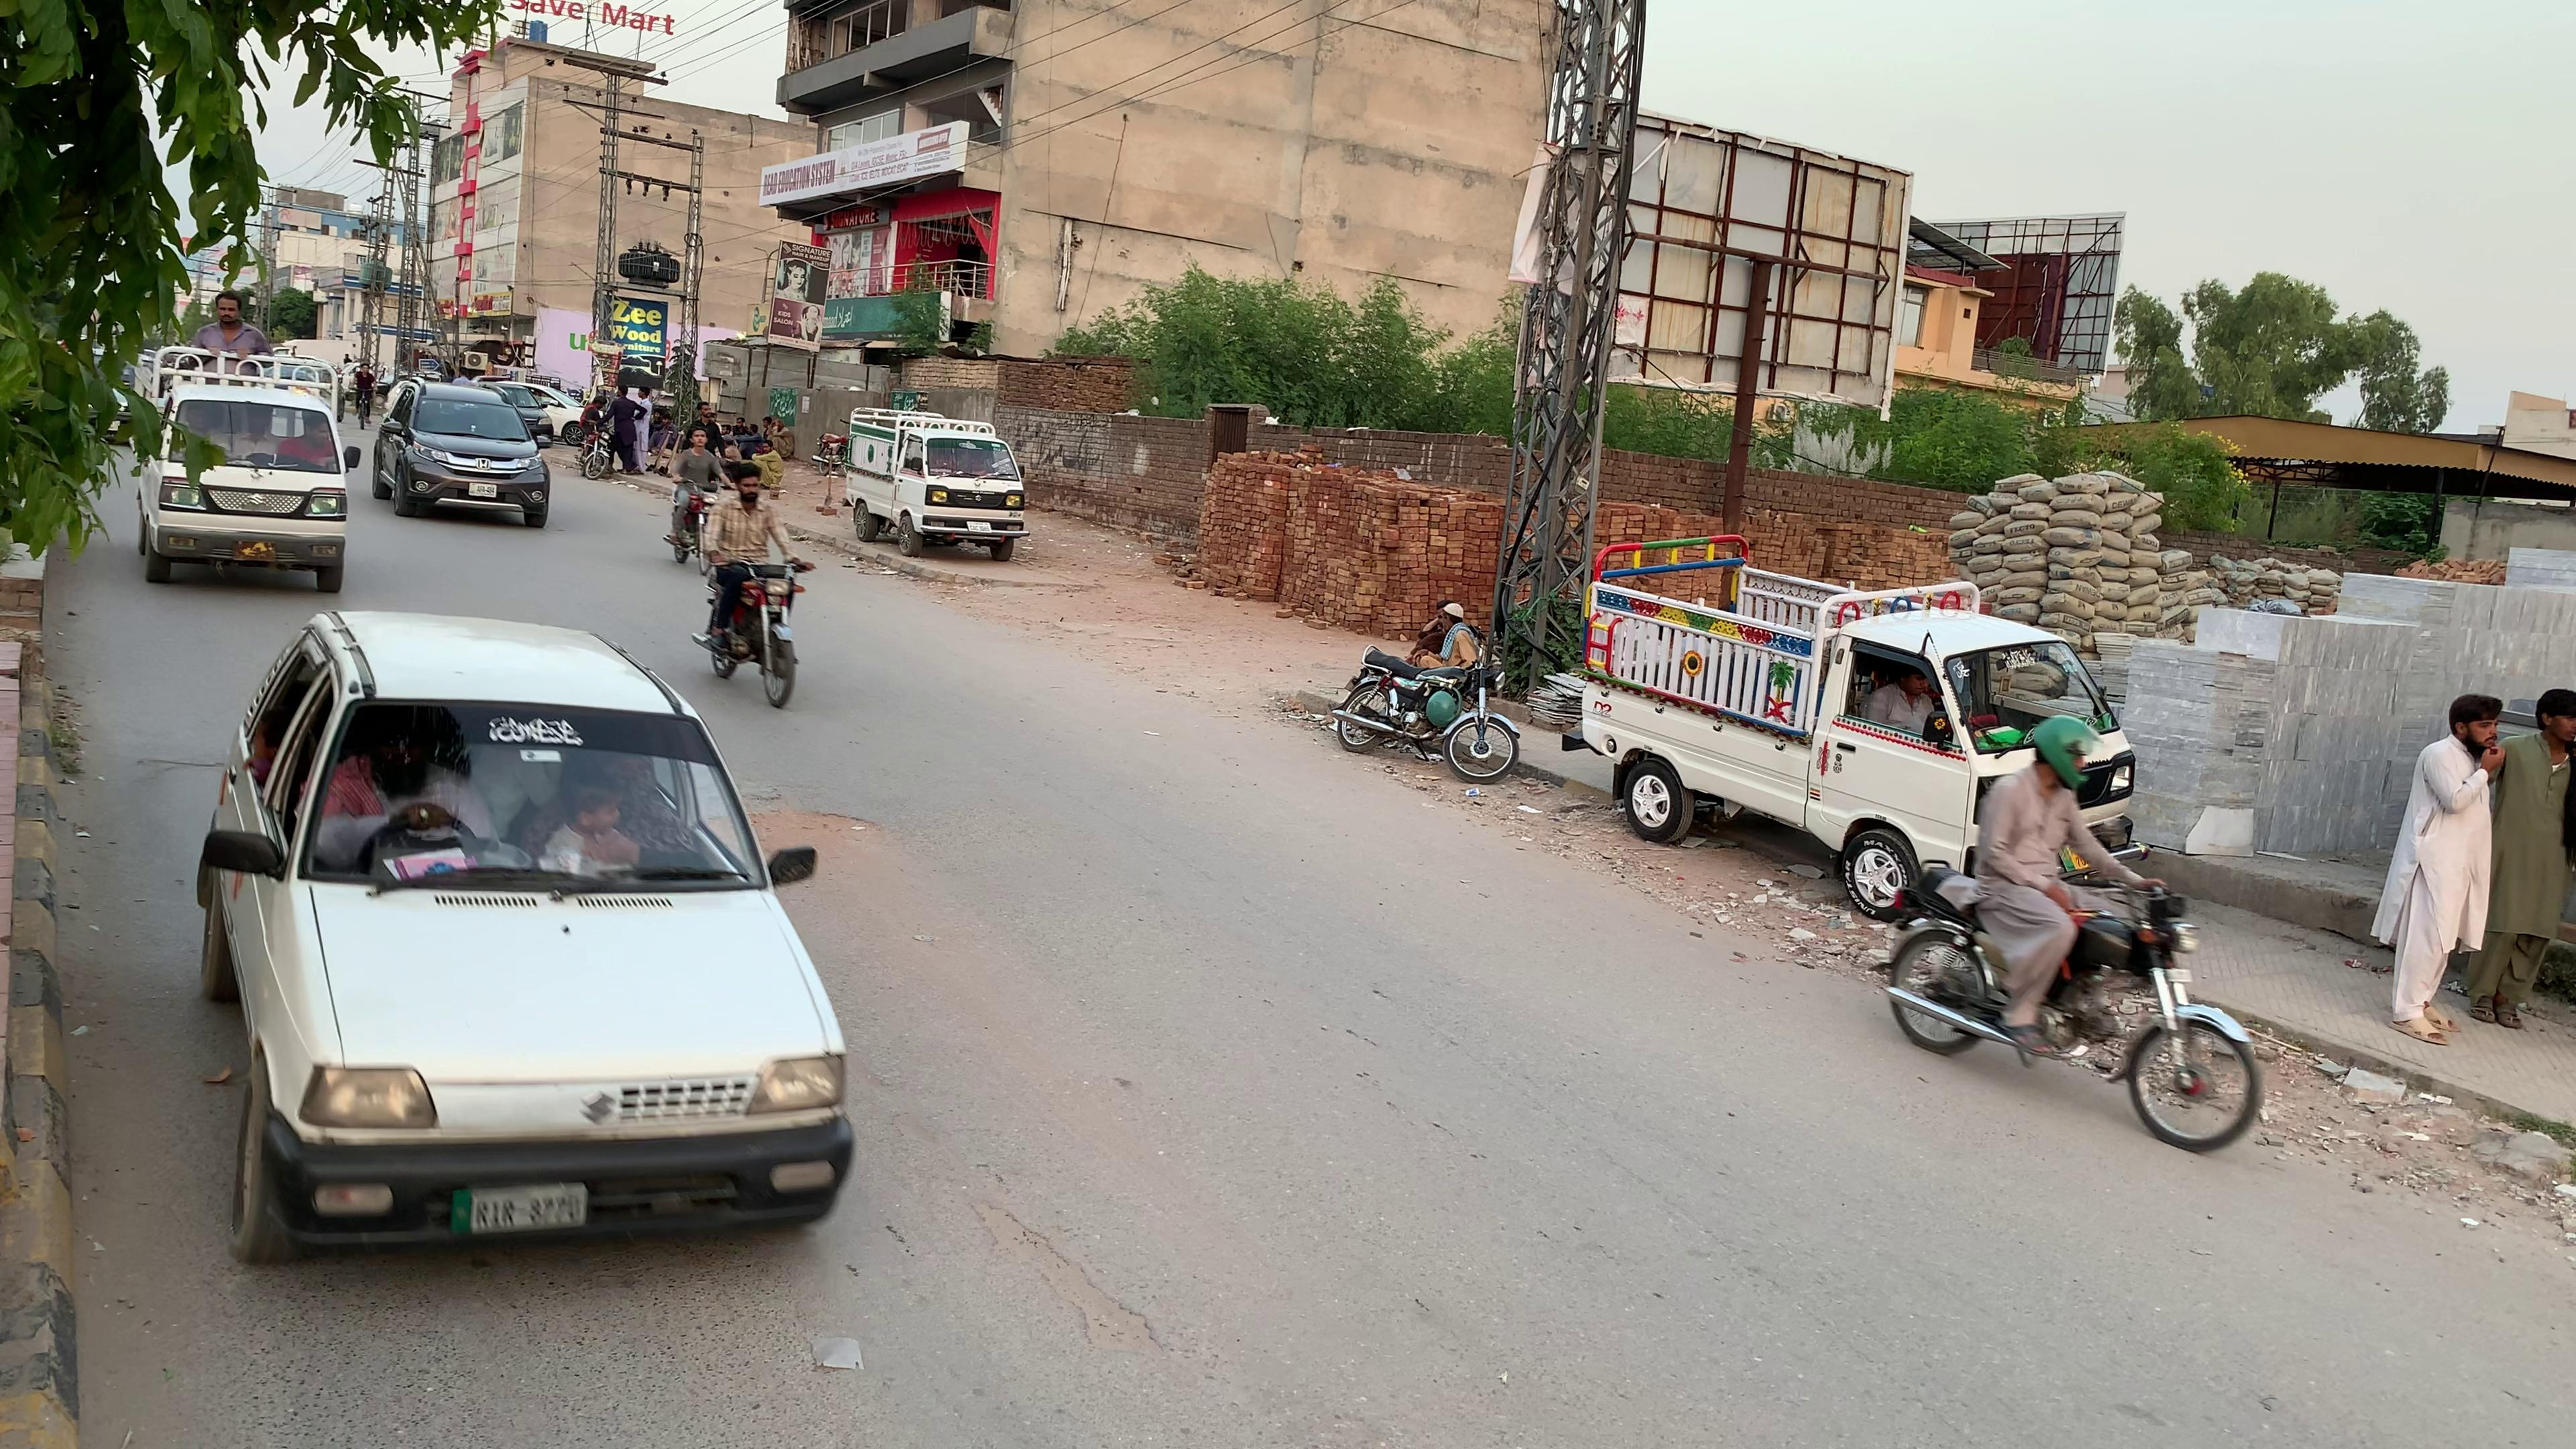windshield: (303, 688, 770, 886)
